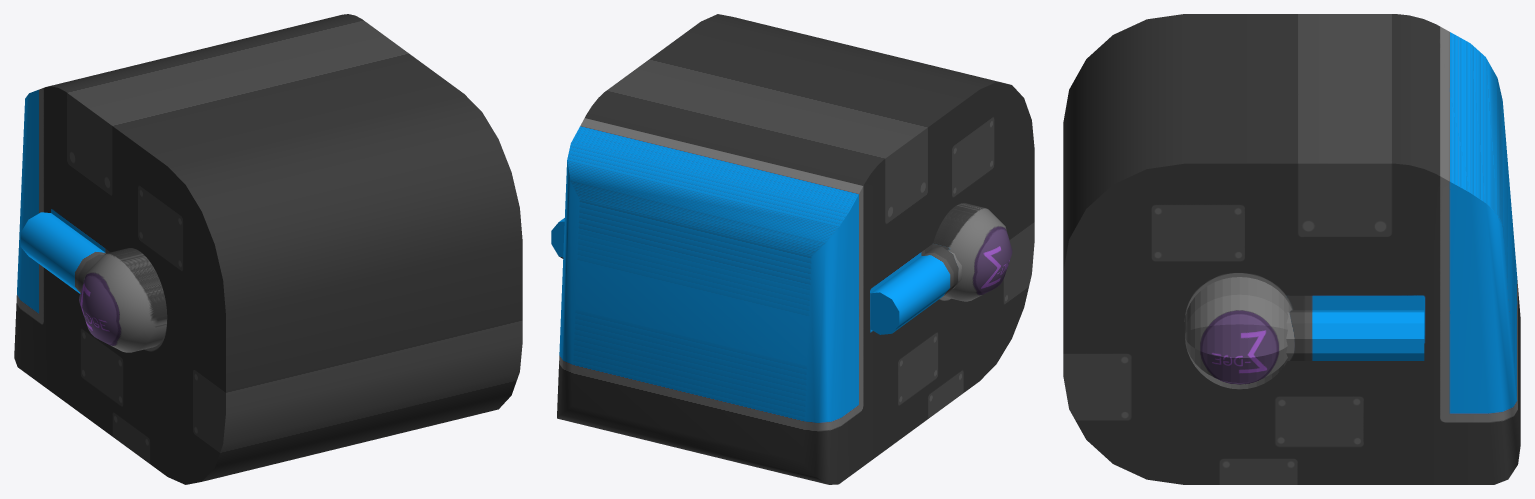
The model's file is big ship.fbx.
3 renders of one model, left to right at view 1: azimuth 30°, elevation 25°; view 2: azimuth 150°, elevation 25°; view 3: azimuth 270°, elevation 25°, orthographic. The views are drawn at different scales.
Parts seen in each view (by area): view 1: Sphere; view 2: Sphere; view 3: Sphere.
Part boxes in pixels (left/top/right/bottom): Sphere: left=14, top=14, right=522, bottom=484; Sphere: left=551, top=14, right=1034, bottom=484; Sphere: left=1063, top=14, right=1520, bottom=484.
Bounding box in the file's own units: 908 × 644 × 832.
